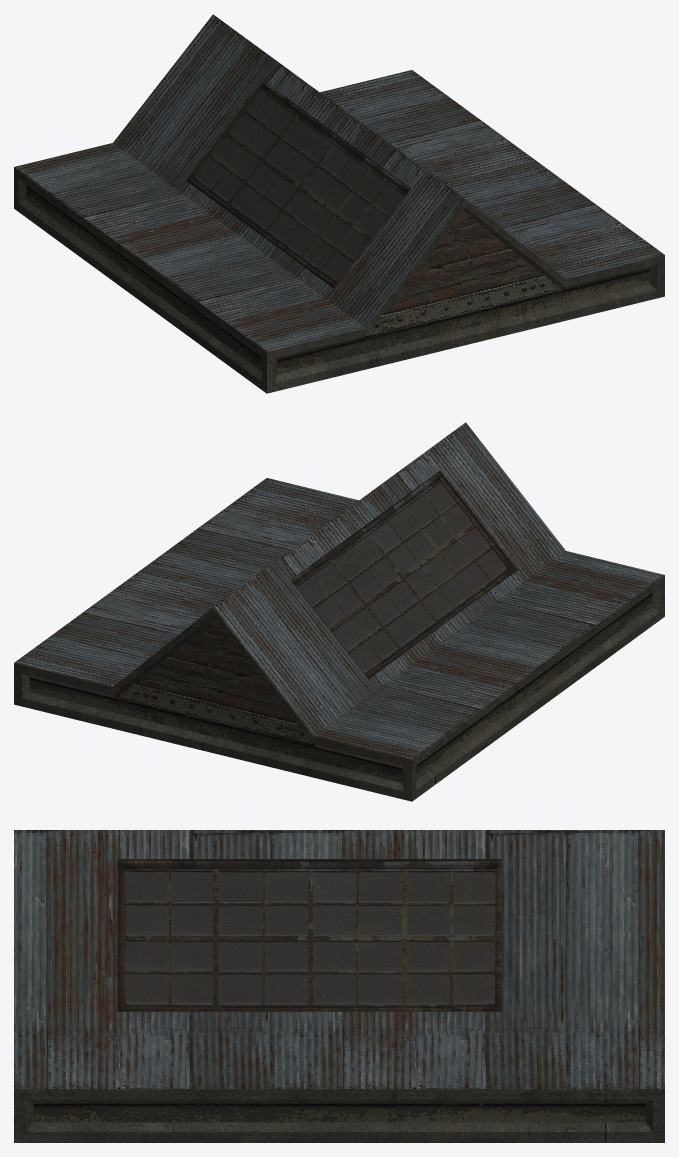
File: roof_bx_1_side.glb
3 views of the same model, one above another, from view 1: azimuth 30°, elevation 25°; view 2: azimuth 150°, elevation 25°; view 3: azimuth 270°, elevation 25° (orthographic). The views are drawn at different scales.
Visible parts, largest first — view 1: roof_bx_1_side; view 2: roof_bx_1_side; view 3: roof_bx_1_side.
Boxes of the visible parts, x1,y1,x2,y2 form: roof_bx_1_side: [14, 14, 664, 393]; roof_bx_1_side: [14, 422, 664, 801]; roof_bx_1_side: [14, 830, 664, 1142].
Size of the model in its own units: 4 by 1.4 by 4.4.
4 materials, 4 textured.
